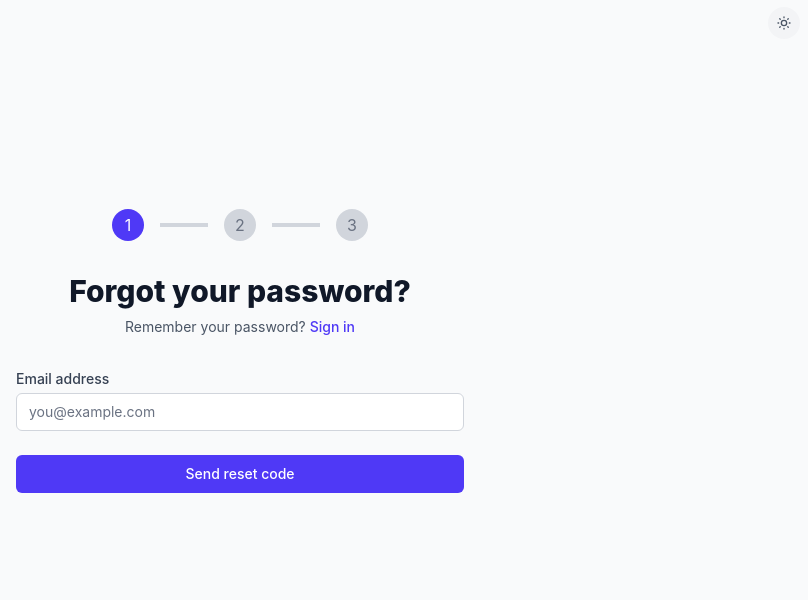
Scenario: ForgotPasswordPage › Step 2: Verify Code › should verify code and move to step 3
Type "test@example.com" into the field labelled "Email address" at point(240, 412), box [16,393,464,431]
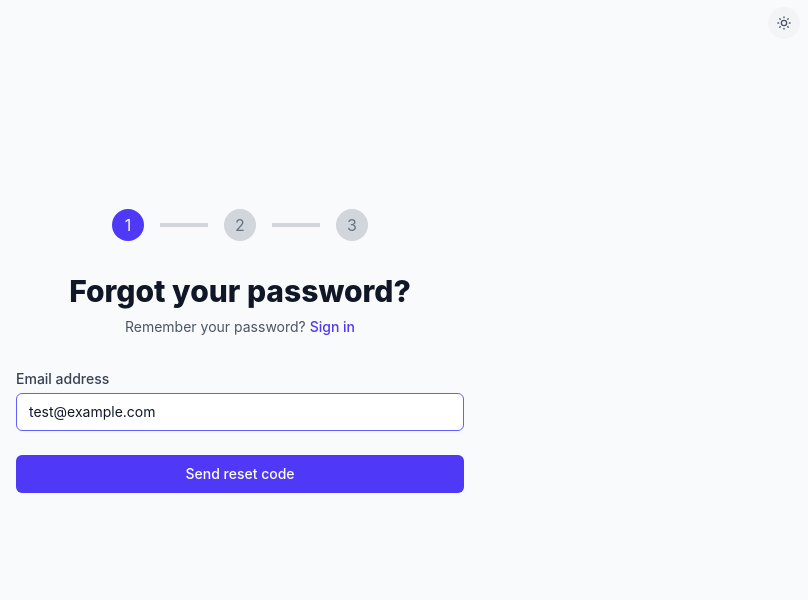
Click the button "Send reset code" at point(240, 474), box [16,455,464,493]
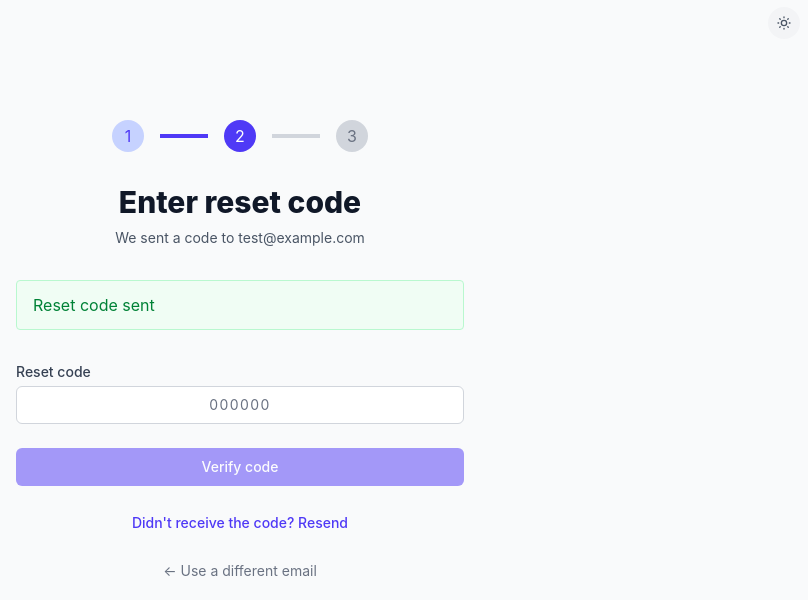
Now the heading "Enter reset code" is shown, box [119,184,361,220]
Type "123456" into the field labelled "Reset code" at point(240, 405), box [16,386,464,424]
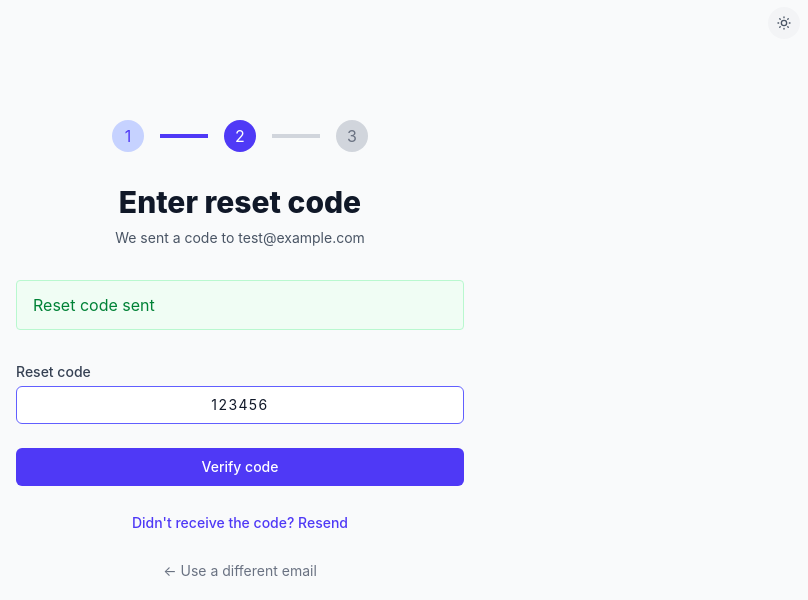
Click the button "Verify code" at point(240, 467), box [16,448,464,486]
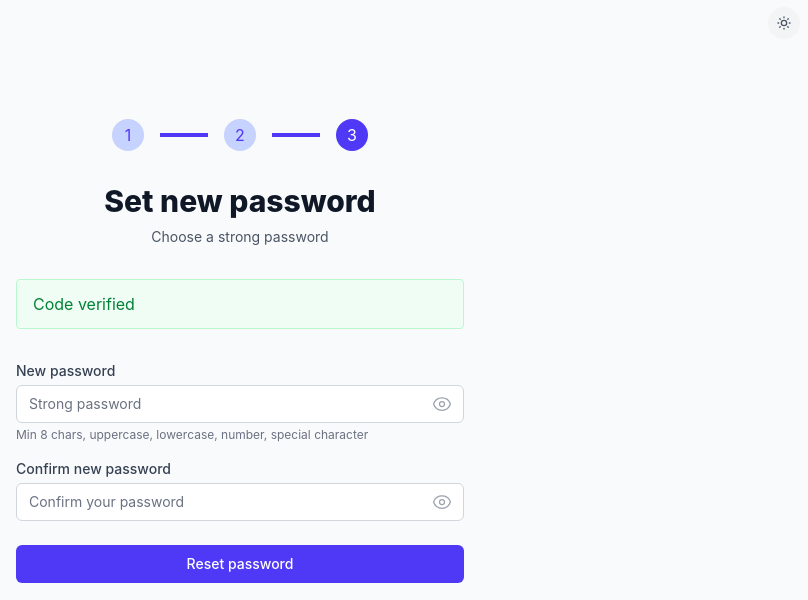
Now the heading "Set new password" is shown, box [104,183,376,219]
